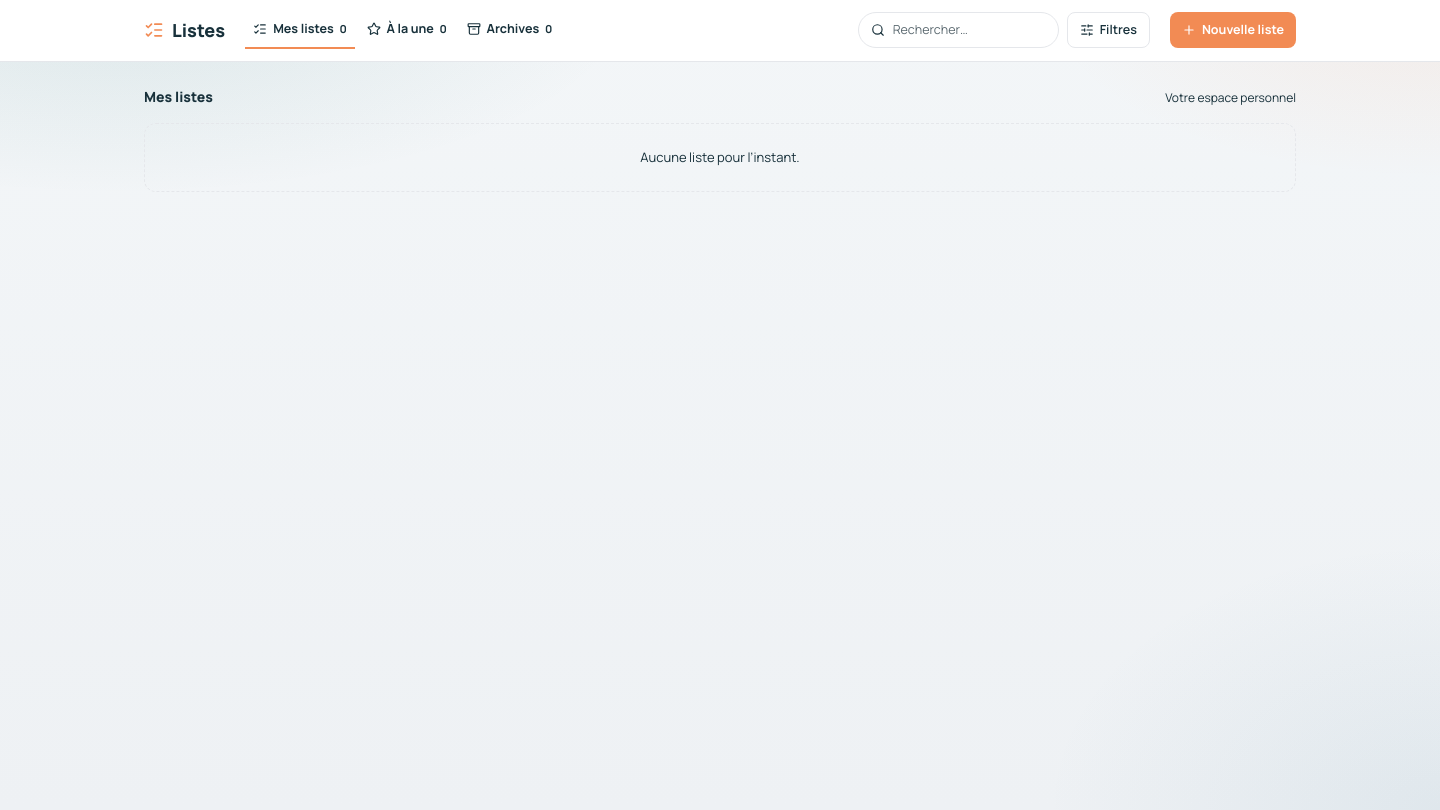
Test case: ListsManageView — erreurs de lecture (revue architecte) › un échec de « à la une » affiche une relance, jamais « aucune liste »
Click the tab "À la une 0".
click(407, 30)  # box [359,12,455,49]
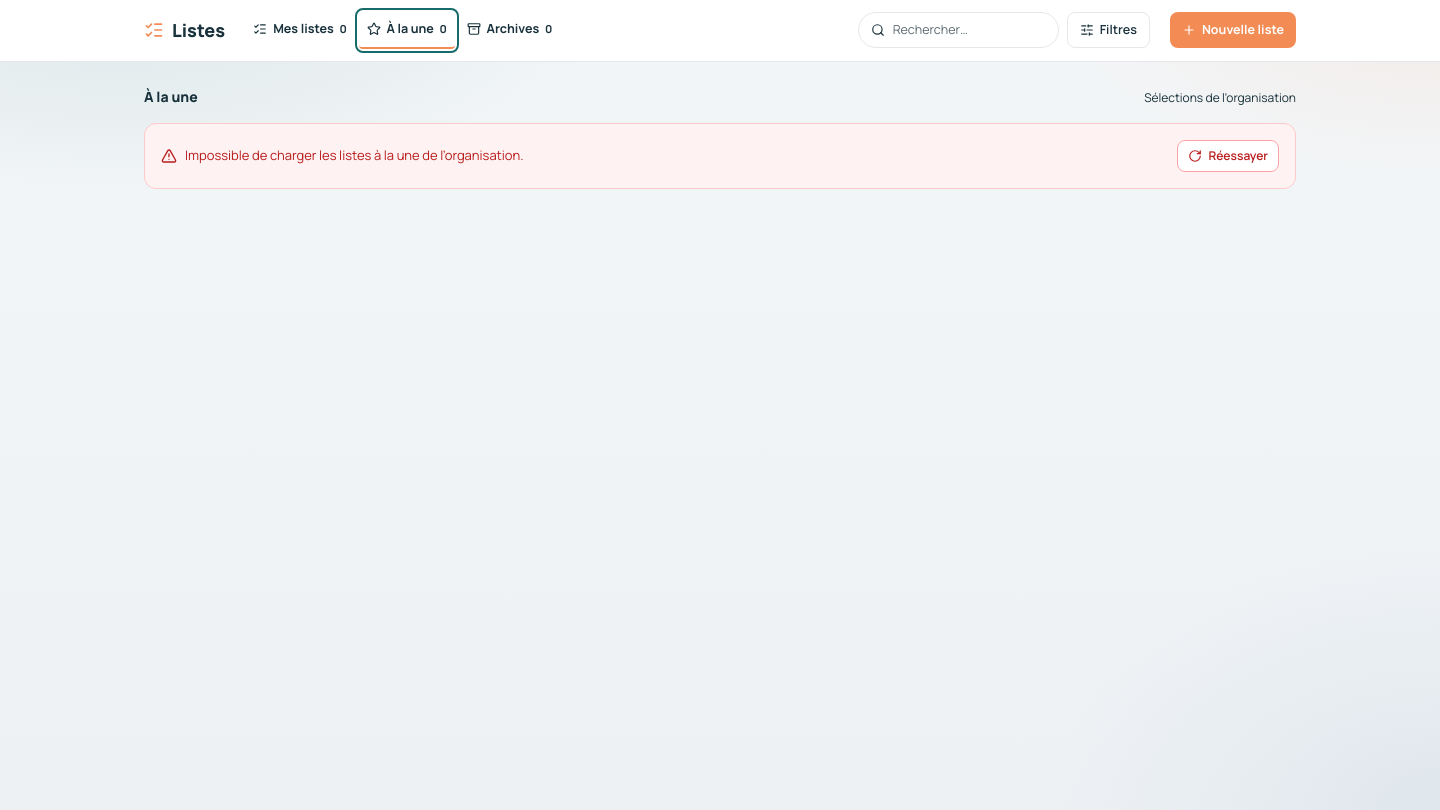
Now the text "Impossible de charger les listes à la une de l’organisation." is shown, box [161,146,524,166]
Now the button "Réessayer" is shown, box [1177,140,1279,172]
